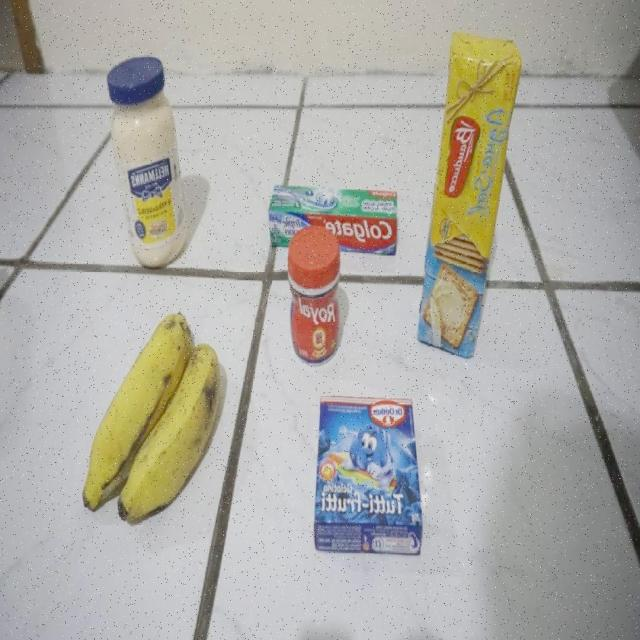Banana: (80, 308, 224, 532)
Cracker: (416, 31, 521, 357)
Gelatine: (310, 398, 424, 556)
Mayonnaise: (107, 55, 188, 270)
Toothpaste: (266, 188, 399, 255)
Yeast: (287, 226, 342, 366)
